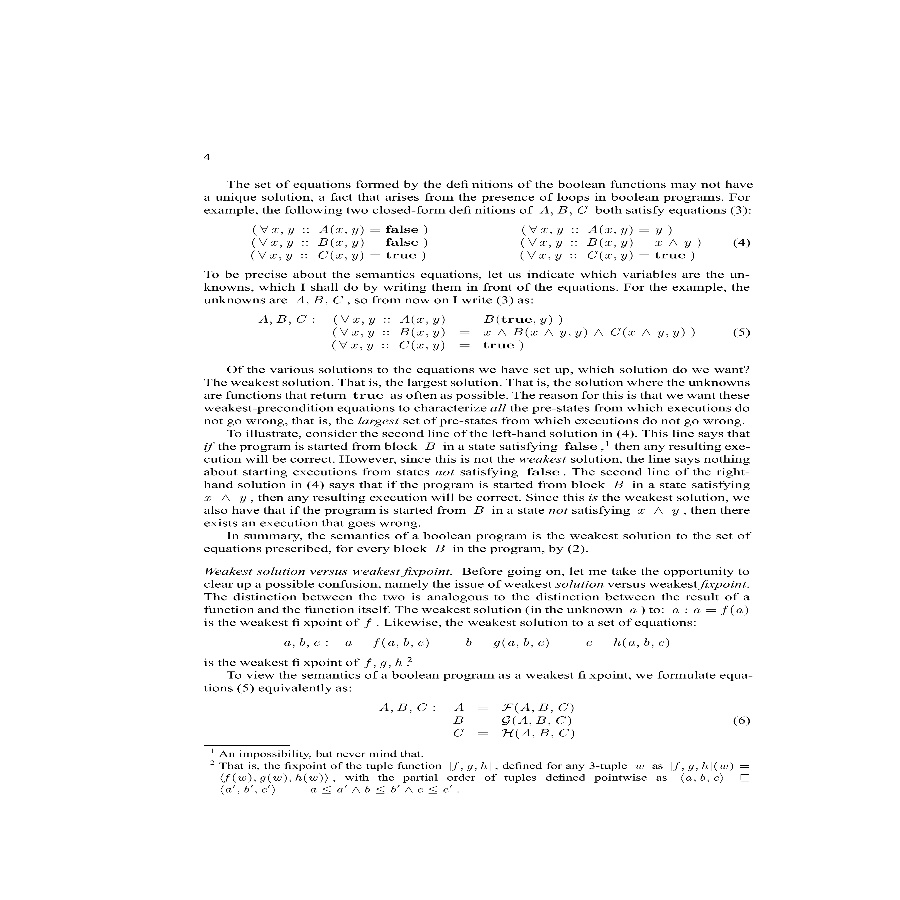eq: (249, 222, 706, 264), (254, 312, 700, 353), (378, 701, 580, 742), (280, 635, 670, 649)
